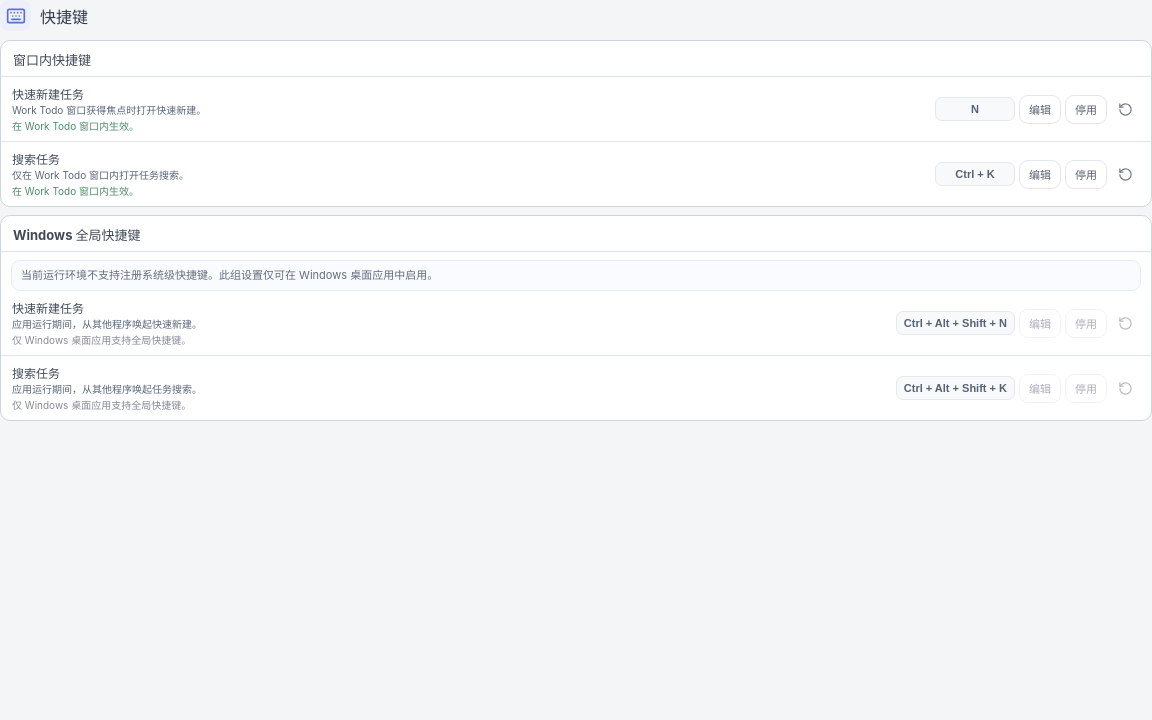
Scenario: shortcut settings screen › uses Escape to stop recording without closing the editor
The width and height of the screenshot is (1152, 720).
Click the button with aria-label "编辑窗口内快捷键：快速新建任务": [1040, 109] box [1019,94,1061,124]
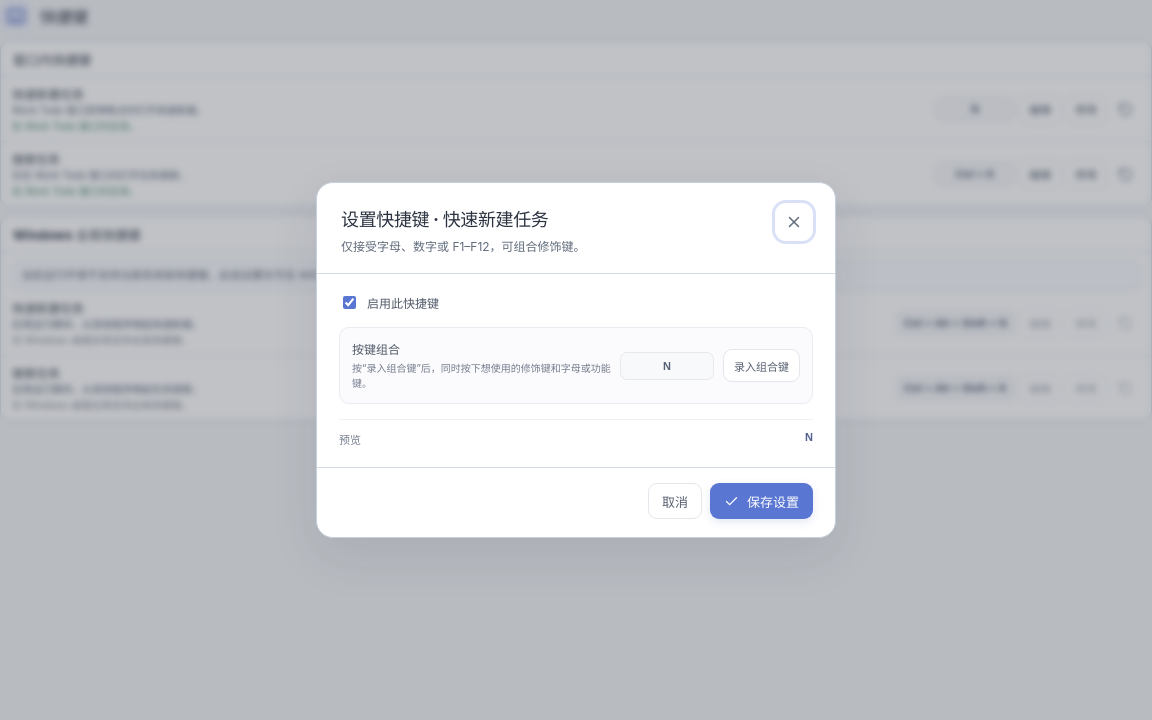
Click the button "录入组合键": [762, 366] box [723,349,800,382]
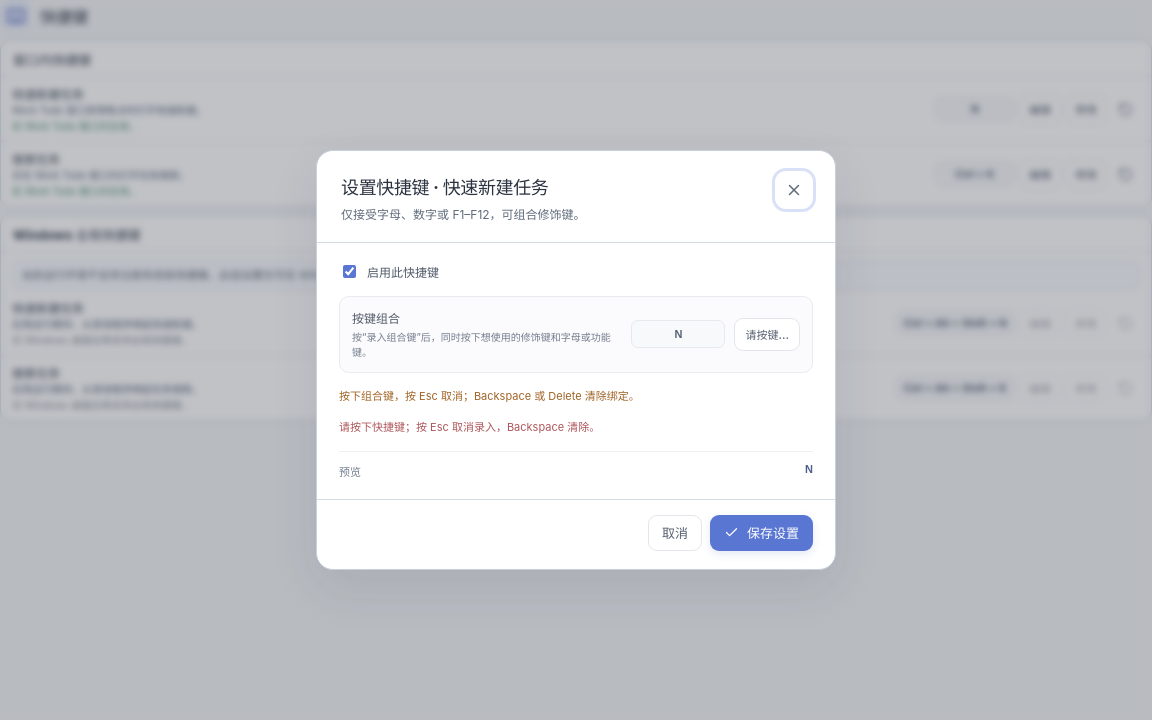
Press Escape in the button with aria-label "正在录入快捷键，按 Esc 取消录入", box [734,318,800,351]
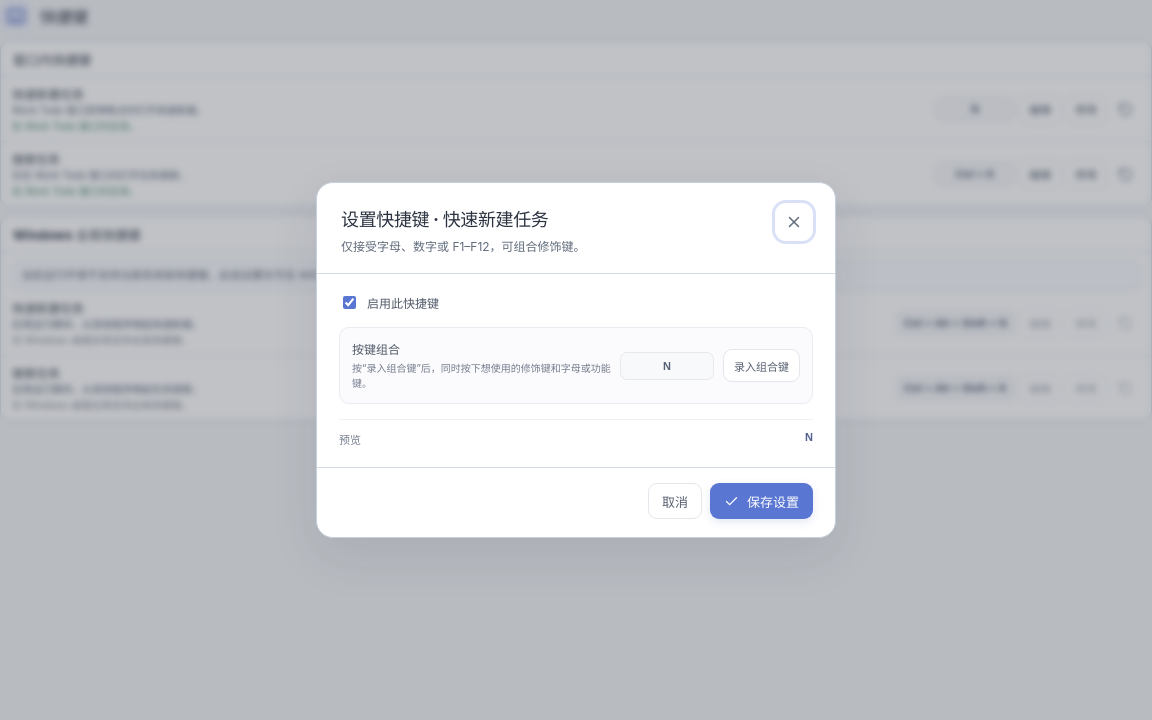
Check: the dialog "设置快捷键 · 快速新建任务" is shown, box [316,182,836,538]
Check: the button "录入组合键" is shown, box [723,349,800,382]
